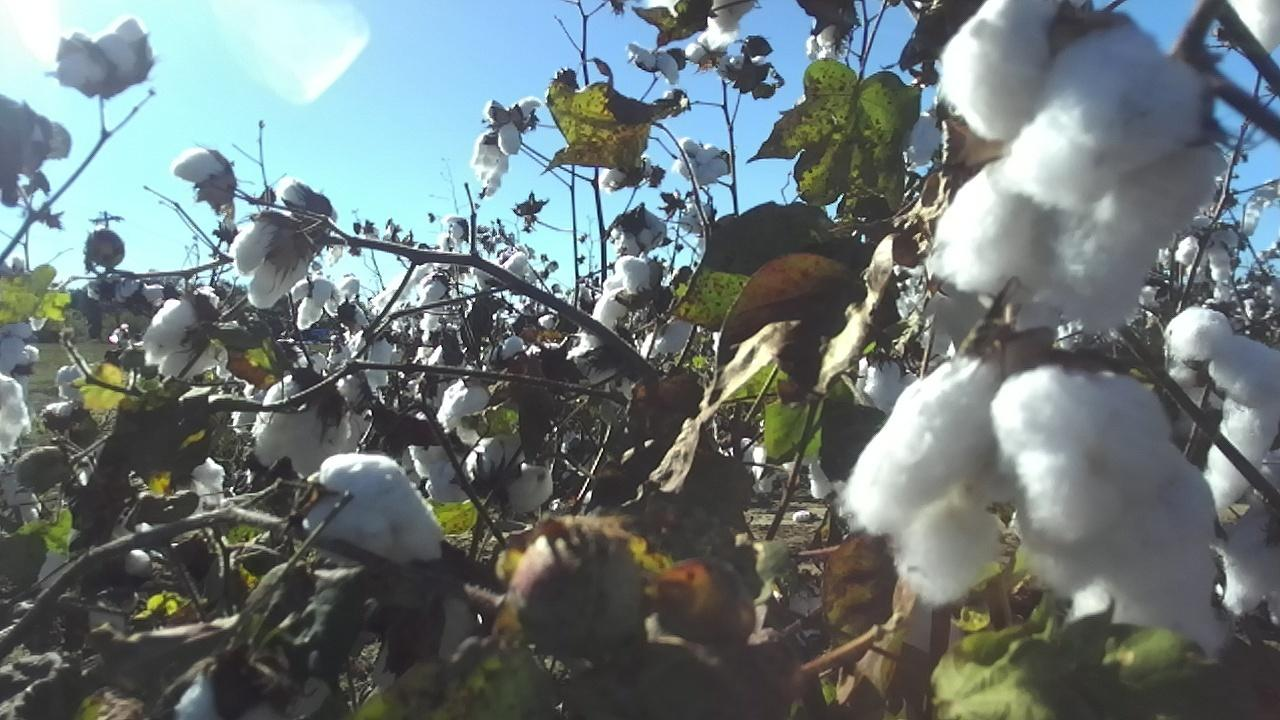cotton_ready: (842, 364, 1219, 648), (933, 0, 1225, 327), (1168, 309, 1280, 509), (304, 455, 442, 558), (565, 258, 657, 383), (249, 377, 354, 477), (1224, 452, 1280, 631), (893, 269, 987, 353), (56, 17, 154, 93), (231, 220, 314, 309), (465, 435, 555, 515), (143, 292, 217, 381), (172, 149, 242, 223), (176, 674, 280, 720), (476, 94, 540, 159), (853, 357, 919, 414), (435, 377, 490, 445), (279, 177, 339, 238), (21, 117, 72, 177), (1230, 0, 1280, 55), (611, 212, 670, 257), (291, 277, 340, 327), (0, 374, 29, 455), (0, 317, 32, 374), (709, 0, 759, 34)
